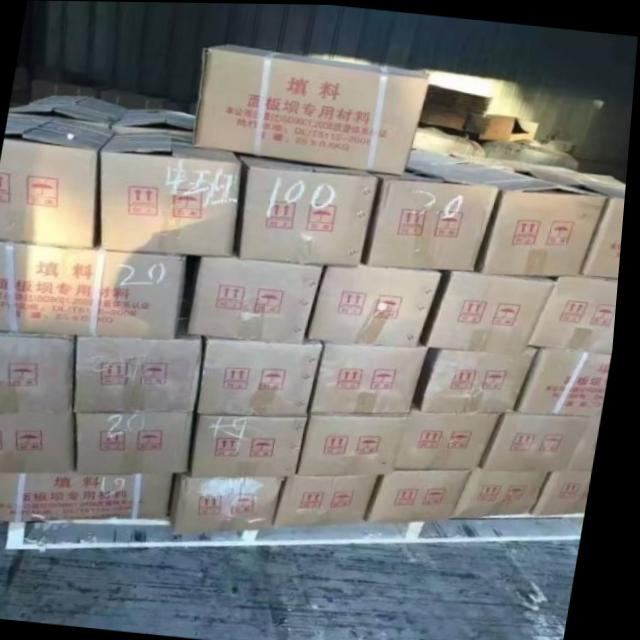box: (195, 41, 430, 171), (98, 129, 250, 256), (0, 239, 191, 336), (238, 147, 385, 263), (456, 163, 612, 272), (370, 148, 503, 270), (0, 111, 116, 249), (195, 257, 327, 341), (431, 265, 560, 350), (533, 167, 629, 277), (311, 263, 443, 343), (82, 330, 209, 413), (200, 335, 326, 413), (0, 472, 185, 525), (315, 341, 433, 413), (198, 411, 316, 474), (531, 273, 623, 351), (427, 347, 544, 408), (80, 413, 203, 471), (183, 474, 294, 538), (400, 403, 508, 468), (418, 82, 542, 138), (301, 412, 413, 472), (0, 331, 81, 413), (488, 410, 600, 467), (518, 349, 614, 414), (281, 472, 390, 528), (372, 471, 478, 521), (0, 411, 84, 473), (421, 147, 609, 174), (464, 470, 558, 519), (21, 92, 133, 125), (482, 129, 579, 165), (540, 465, 599, 514), (114, 104, 198, 134), (413, 125, 487, 156), (99, 86, 172, 108), (573, 414, 602, 467), (35, 77, 97, 100), (14, 76, 36, 109), (164, 96, 197, 116)
